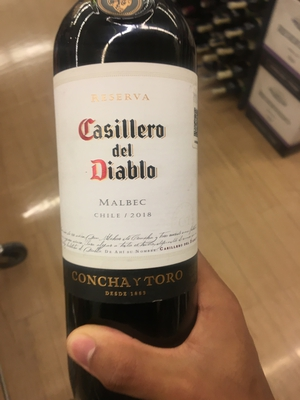casillero del diablo malbec: (44, 7, 212, 357)
